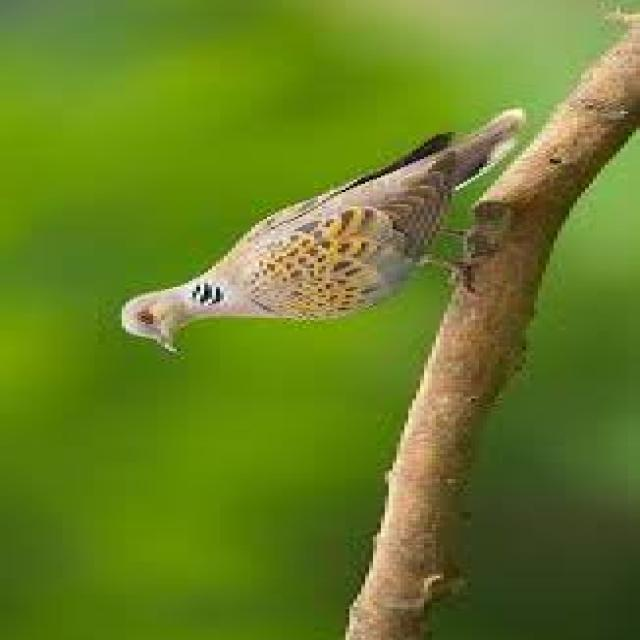pigeon: (106, 101, 475, 354)
